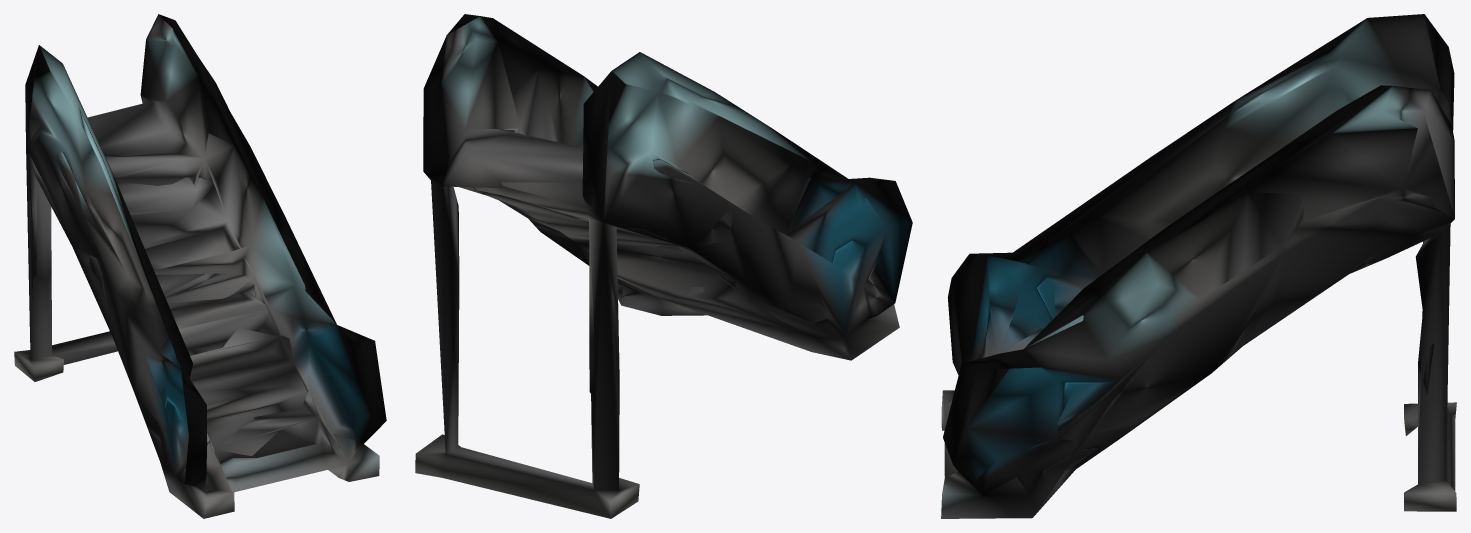
The model's file is gen3d-escalator-lod1.glb.
3 views of the same model, side by side, from view 1: azimuth 30°, elevation 25°; view 2: azimuth 150°, elevation 25°; view 3: azimuth 270°, elevation 25° (orthographic). The views are drawn at different scales.
Visible parts, largest first — view 1: part_0; view 2: part_0; view 3: part_0.
Part boxes in pixels (bbox=[...]): part_0: bbox=[14, 14, 386, 518]; part_0: bbox=[415, 14, 912, 518]; part_0: bbox=[941, 14, 1456, 518].
Size of the model in its own units: 0.6257 by 0.9941 by 1.11.
